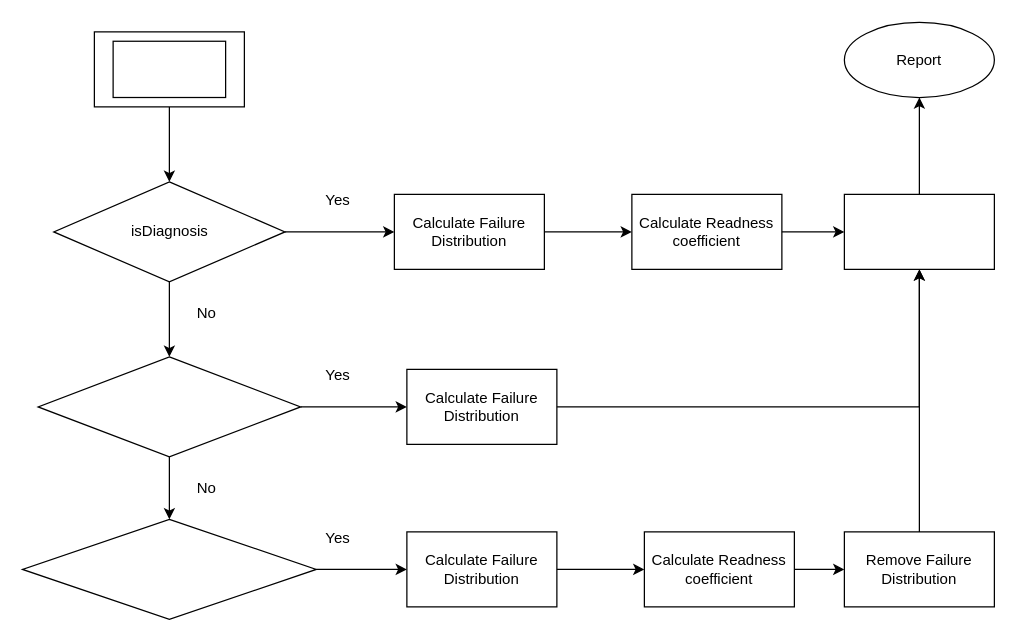
This 1016x641 diagram has some shape labels left out. The centre of each missing label's shape, as x and y in pixels:
"Create Report" goes at pixel 918 231.
"FullAircraftData" goes at pixel 169 69.
"isPrediction" goes at pixel 169 406.
"isReadness" goes at pixel 168 568.
